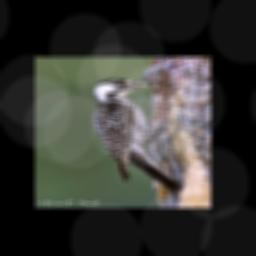Woodpecker: (91, 78, 180, 196)
